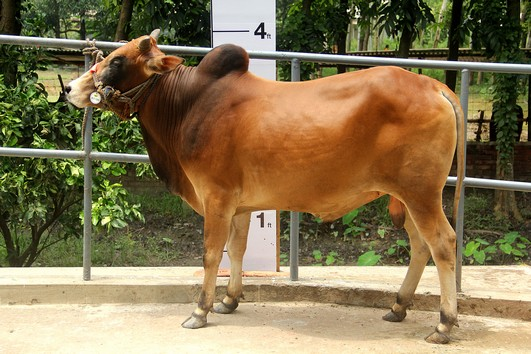cow: (57, 23, 473, 346)
